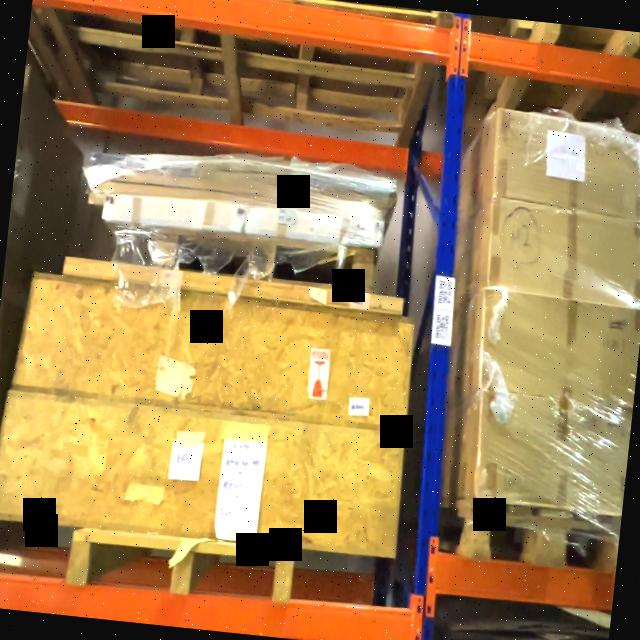box: (0, 382, 406, 557), (10, 272, 413, 428), (486, 195, 640, 304), (493, 107, 640, 221)
